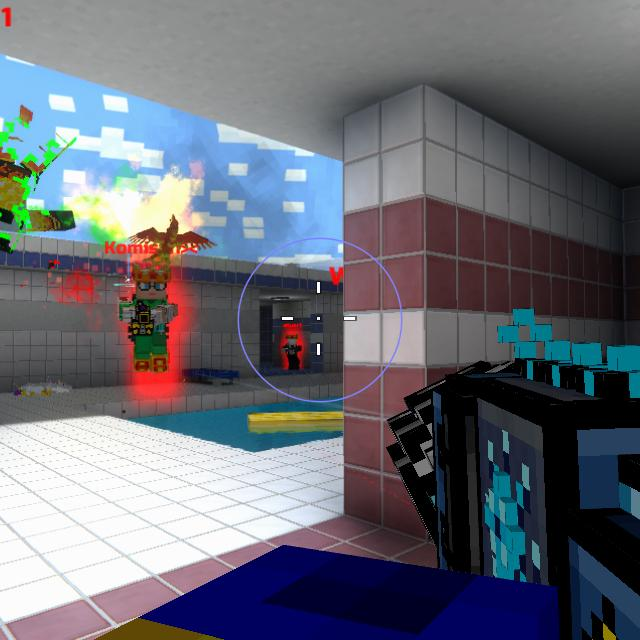Enemy: (118, 269, 179, 374), (281, 334, 302, 369)
